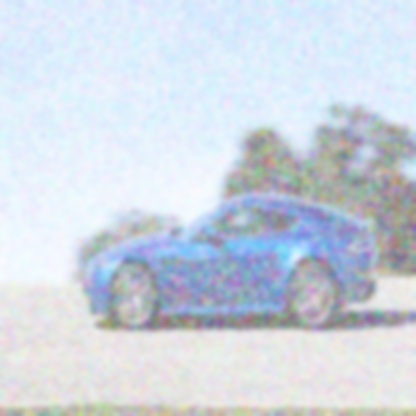Vehicle: (81, 190, 383, 333)
